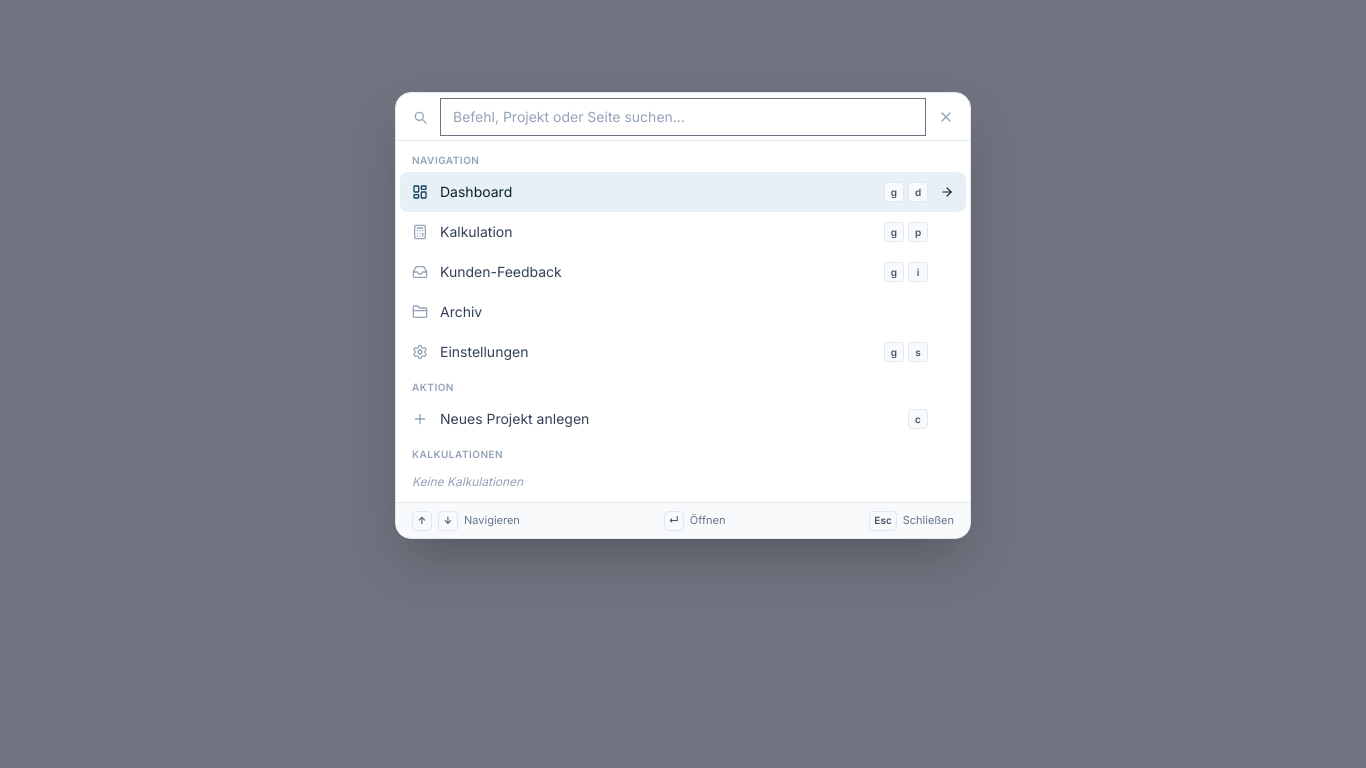
Test: CommandPalette.tsx — filtering › garbage query → empty-result message "Keine Treffer"
Type "zzzzzz-nope" into the field with placeholder "Befehl, Projekt oder Seite suchen…" at (683, 117), box [440,98,926,136]
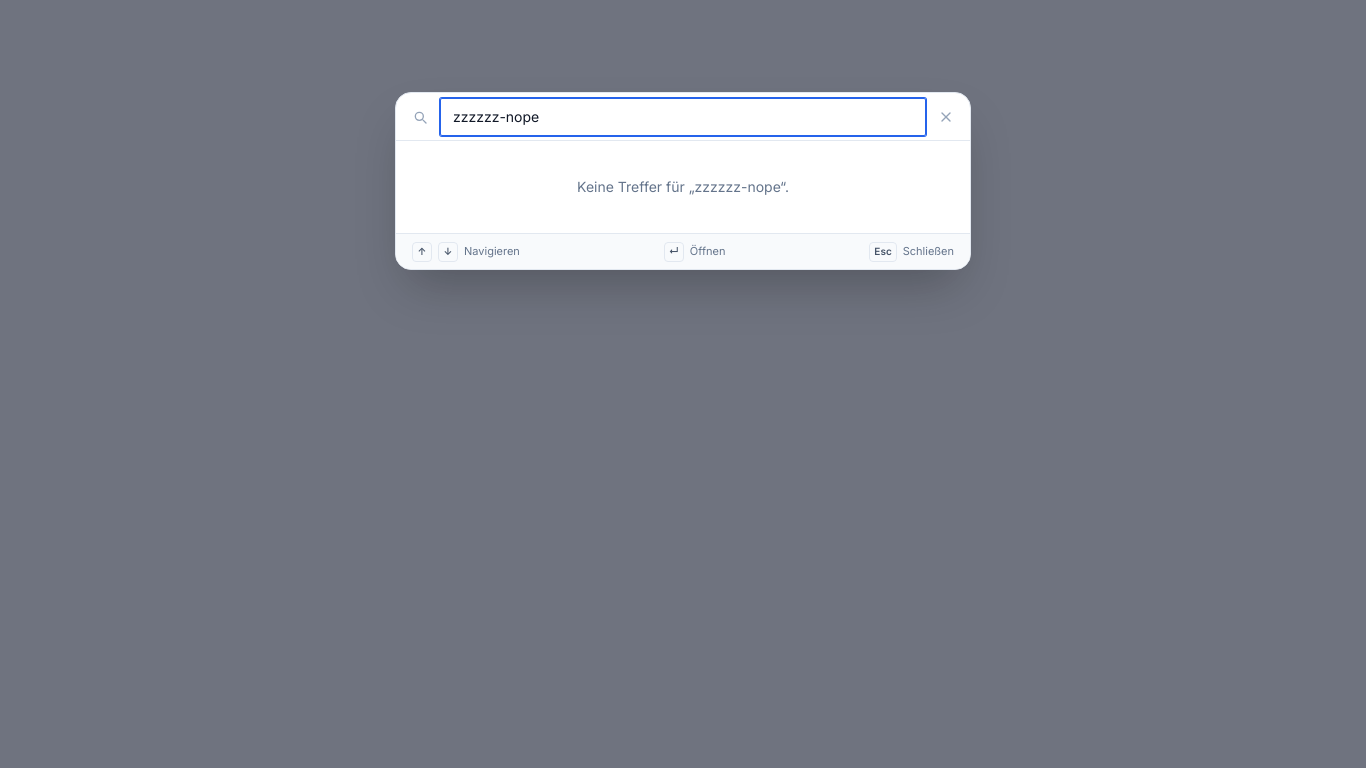
Expected: the text "Keine Treffer für „zzzzzz-nope“." is shown, [577,178,789,195]
